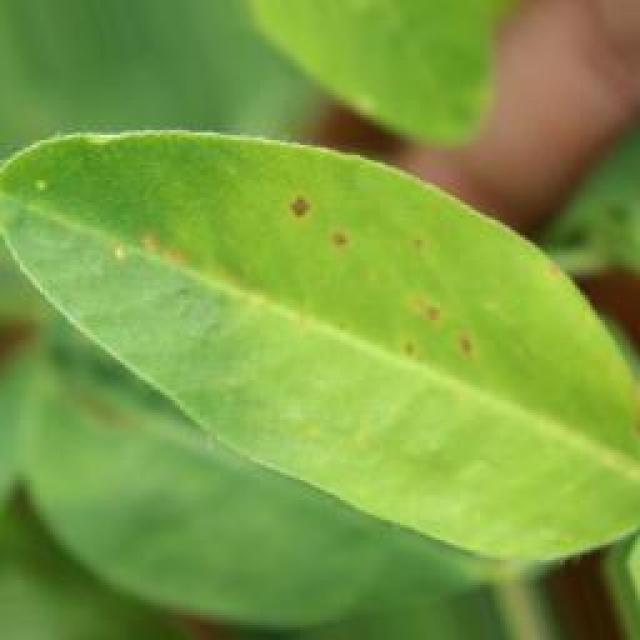Sigatoka: (395, 270, 484, 390), (263, 186, 365, 281), (108, 200, 211, 294), (393, 213, 445, 286), (531, 231, 573, 301)
